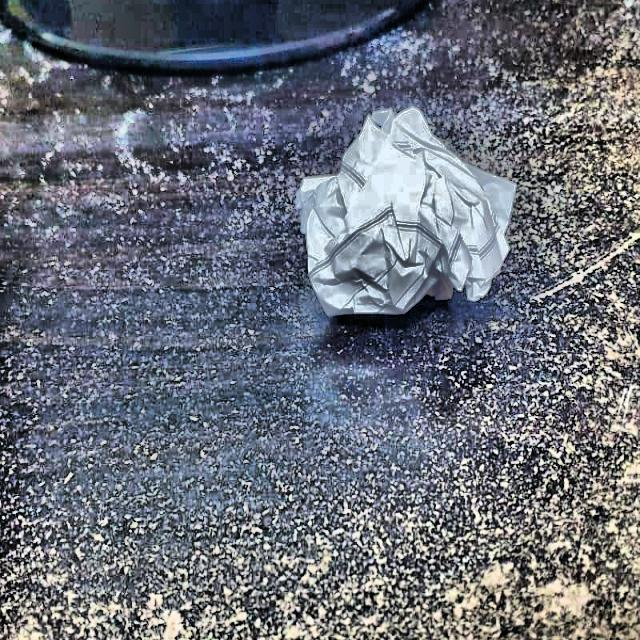paper: (297, 87, 524, 340)
